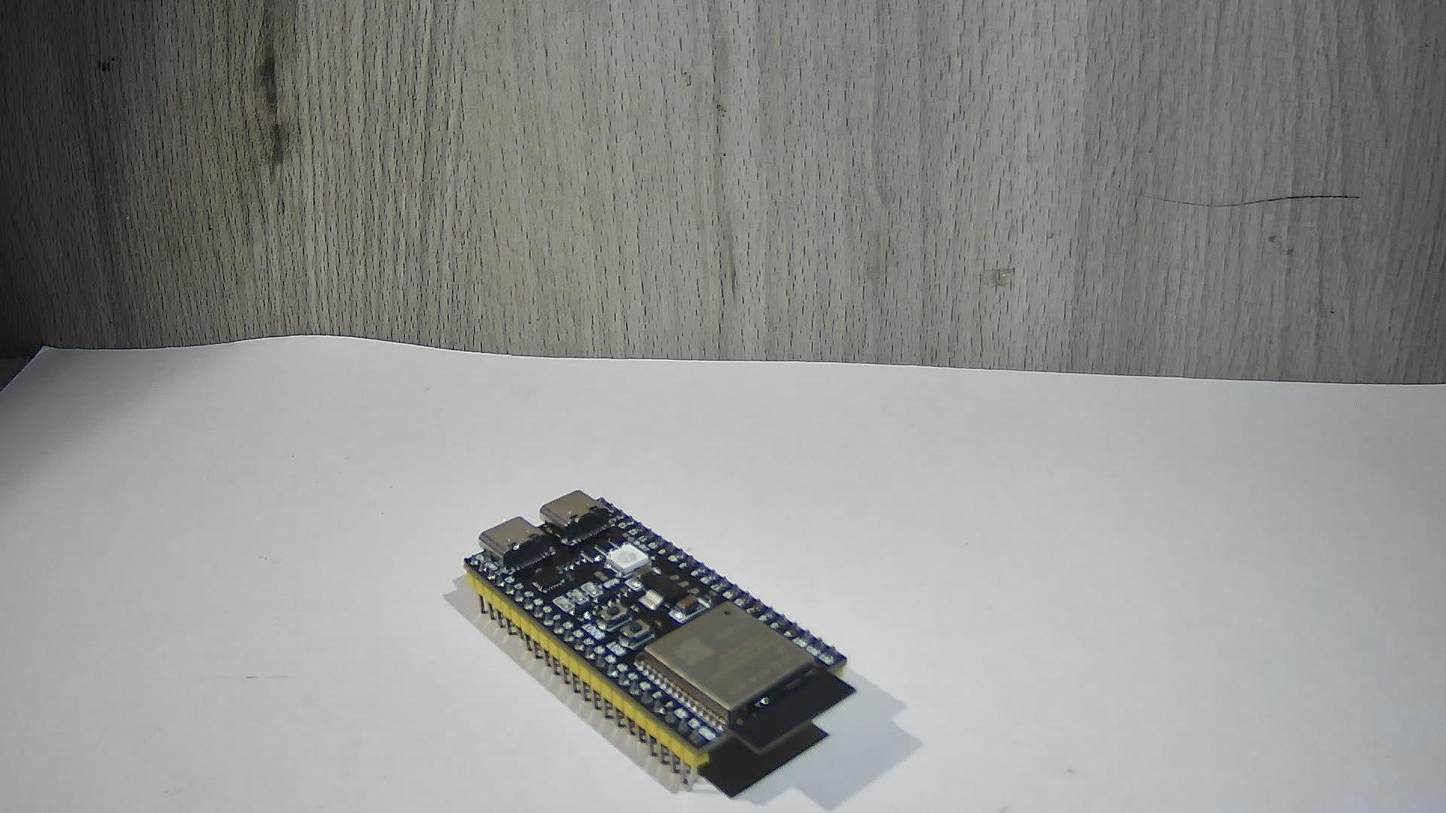ESP32: (449, 459, 880, 799)
